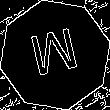M_S: (27, 25, 83, 85)
